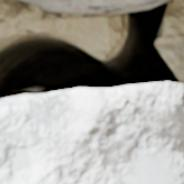brick: (0, 84, 183, 183), (19, 0, 168, 13)
crack: (0, 0, 183, 101)
